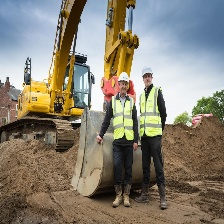helmet: (140, 63, 155, 77), (117, 71, 131, 84)
person: (137, 61, 169, 212), (110, 71, 137, 210)
vest: (110, 92, 136, 151), (138, 87, 166, 140)
